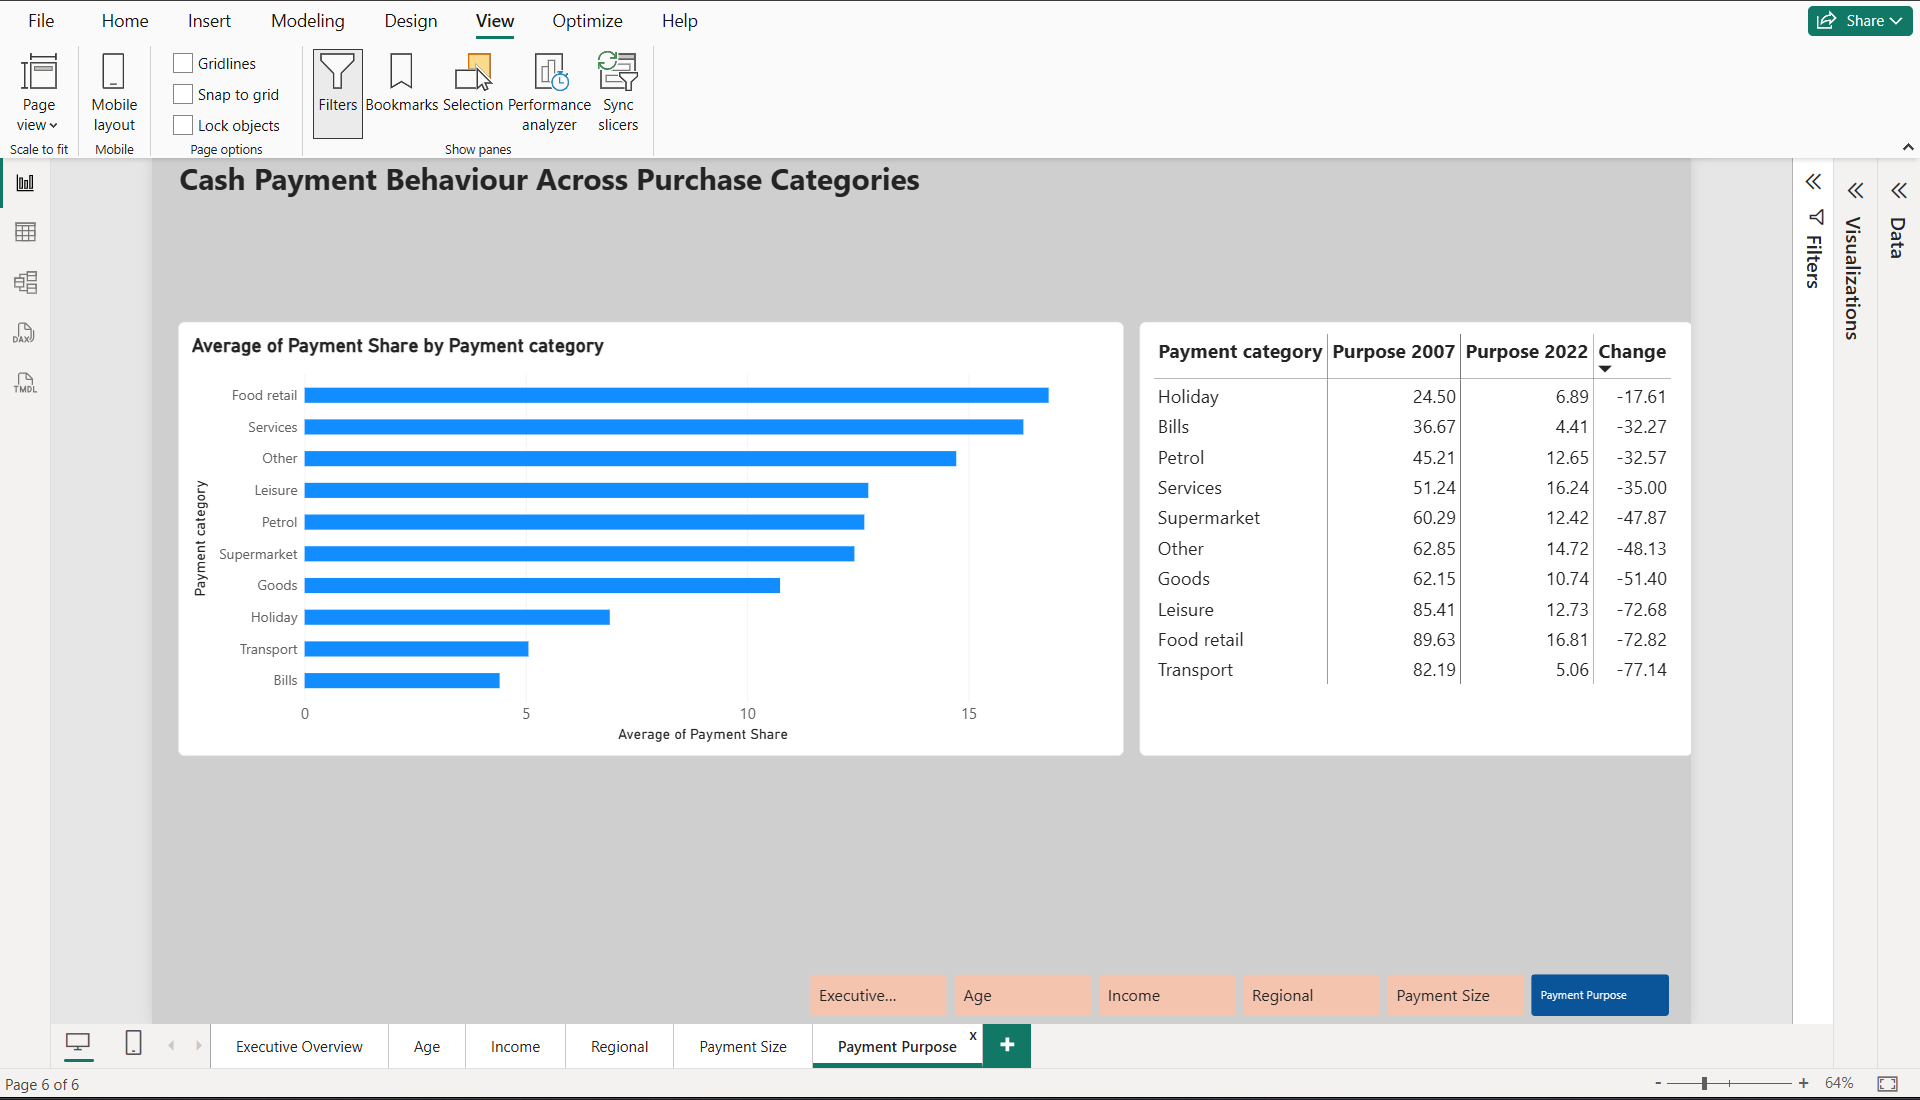

The page's visual inventory and layout, read from the dashboard file:
{"tool":"powerbi","page":{"name":"Payment Purpose","canvas":[1920,1080],"ordinal":5},"visuals":[{"type":"clusteredBarChart","fields":{"Category":["Payment purpose.Payment category"],"Y":["Avg(Payment purpose.Payment Share)"]},"box":[32.9,203.8,1179.4,541.3],"z":0},{"type":"tableEx","fields":{"Values":["Payment purpose.Payment category","Payment purpose.Purpose 2007","Payment purpose.Purpose 2022","Payment purpose.Change"]},"box":[1230.9,203.8,689.5,541.3],"z":1000},{"type":"textbox","box":[33.6,0,1046.1,108],"z":3001},{"type":"pageNavigator","box":[819.9,1018.4,1076.7,52.5],"z":3002}]}

Visuals, with their boxes on the page's 1920x1080 design canvas (x1, y1, x2, y2). These are canvas units, not pixel positions in the 1920x1100 screenshot, which may show the page scaled, cropped or inside an application window:
clusteredBarChart - Payment purpose.Payment category x Avg(Payment purpose.Payment Share): [left=33, top=204, right=1212, bottom=745]
tableEx - Payment purpose.Payment category x Payment purpose.Purpose 2007: [left=1231, top=204, right=1920, bottom=745]
textbox: [left=34, top=0, right=1080, bottom=108]
pageNavigator: [left=820, top=1018, right=1897, bottom=1071]
